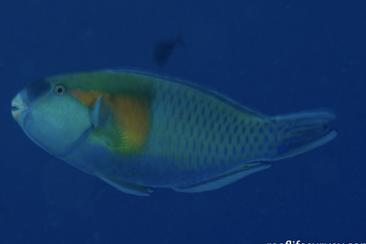Scaridae -Parrotfishes-: (7, 60, 340, 200)
